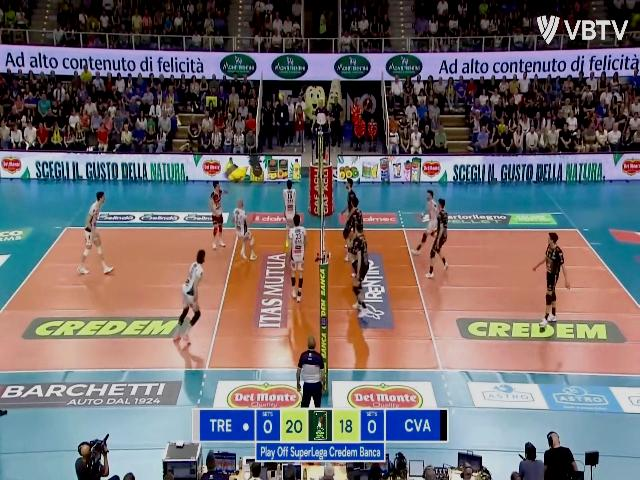volleyball court: (0, 223, 638, 373)
